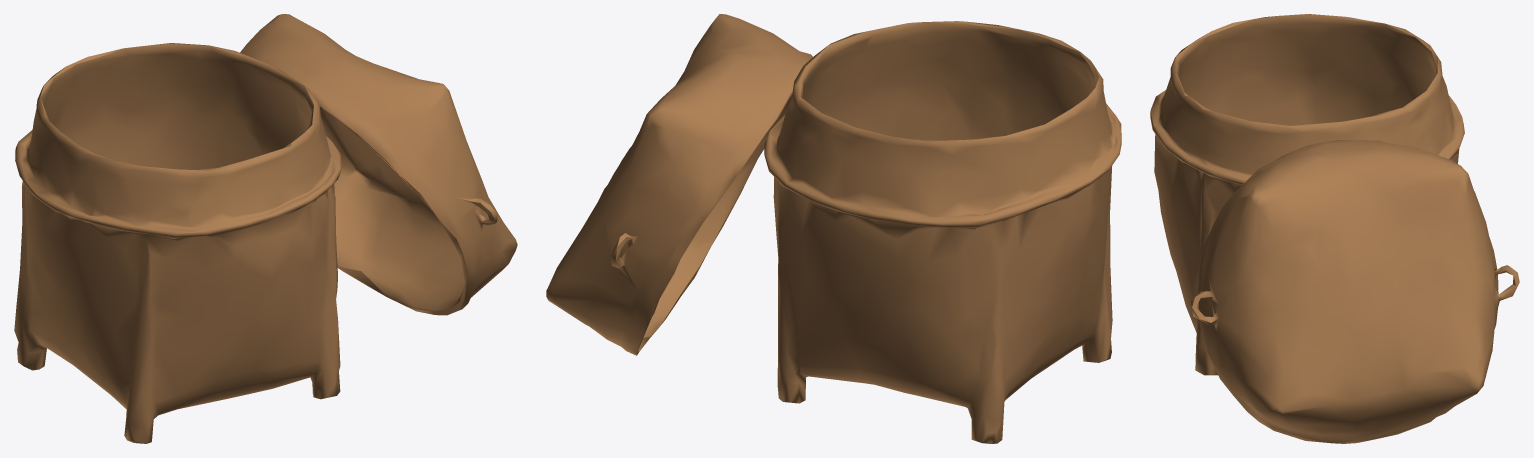
The model's file is wicker-basket-2.glb.
3 renders of one model, left to right at view 1: azimuth 30°, elevation 25°; view 2: azimuth 150°, elevation 25°; view 3: azimuth 270°, elevation 25°, orthographic. The views are drawn at different scales.
Visible parts, largest first — view 1: wicker-basket-2; view 2: wicker-basket-2; view 3: wicker-basket-2.
Part boxes in pixels (x1,y1,x2,y2): wicker-basket-2: [14, 14, 517, 443]; wicker-basket-2: [546, 14, 1121, 443]; wicker-basket-2: [1150, 14, 1519, 443].
Bounding box in the file's own units: 0.3465 × 0.1999 × 0.2543.
